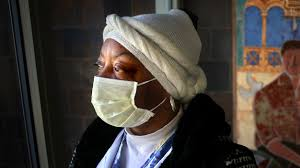with-mask: (90, 11, 204, 138)
